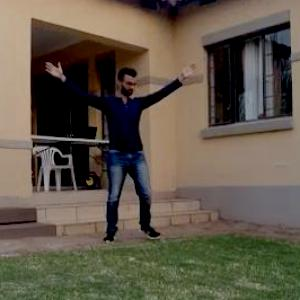takeoff: (36, 55, 199, 238)
